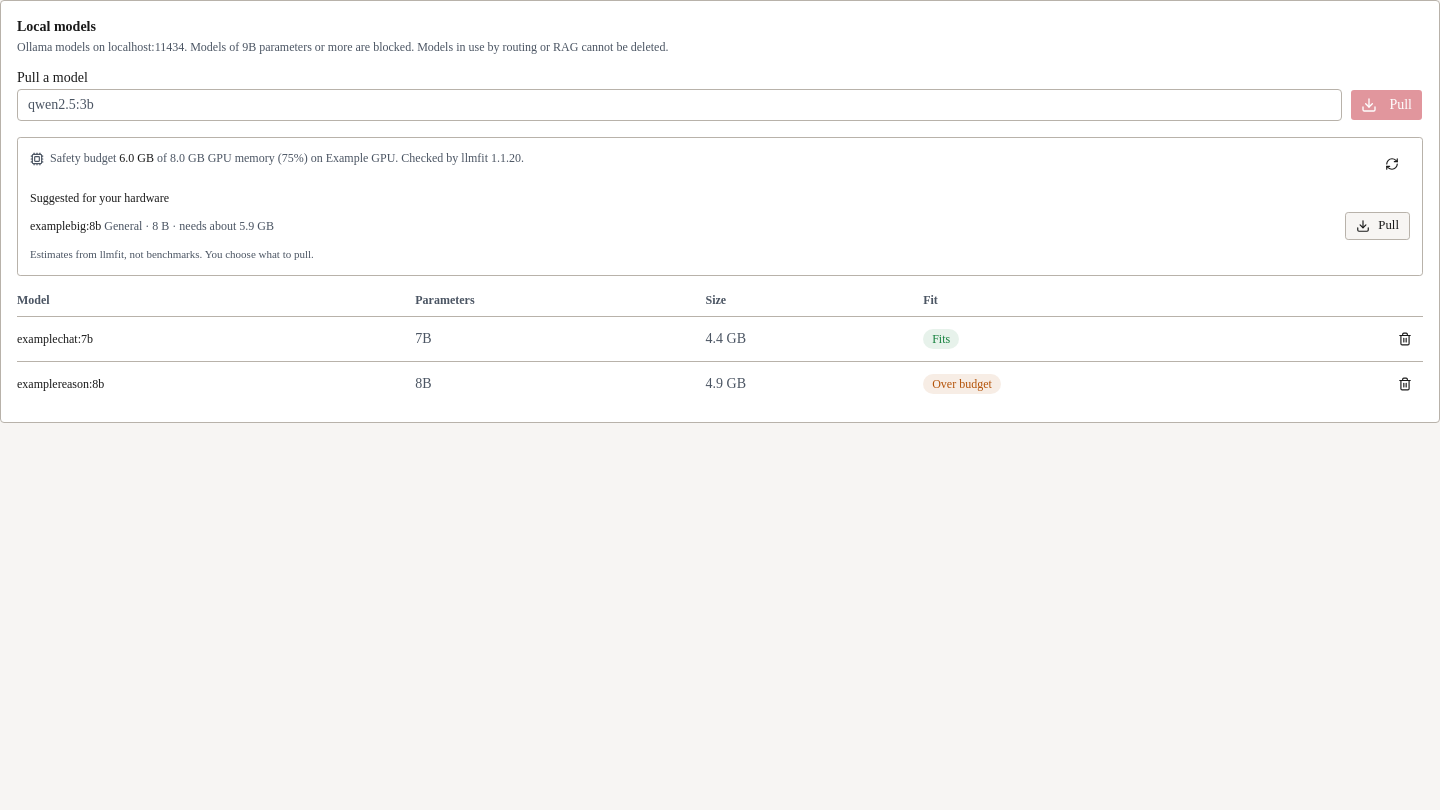
Scenario: OllamaModelsCard hardware fit › does not pull when the user cancels
The image size is (1440, 810).
What coordinates should you click on to do the following:
click the button with aria-label "Pull examplebig:8b"
I would click on:
 (1378, 226)
Its box is [1345,212,1410,240].
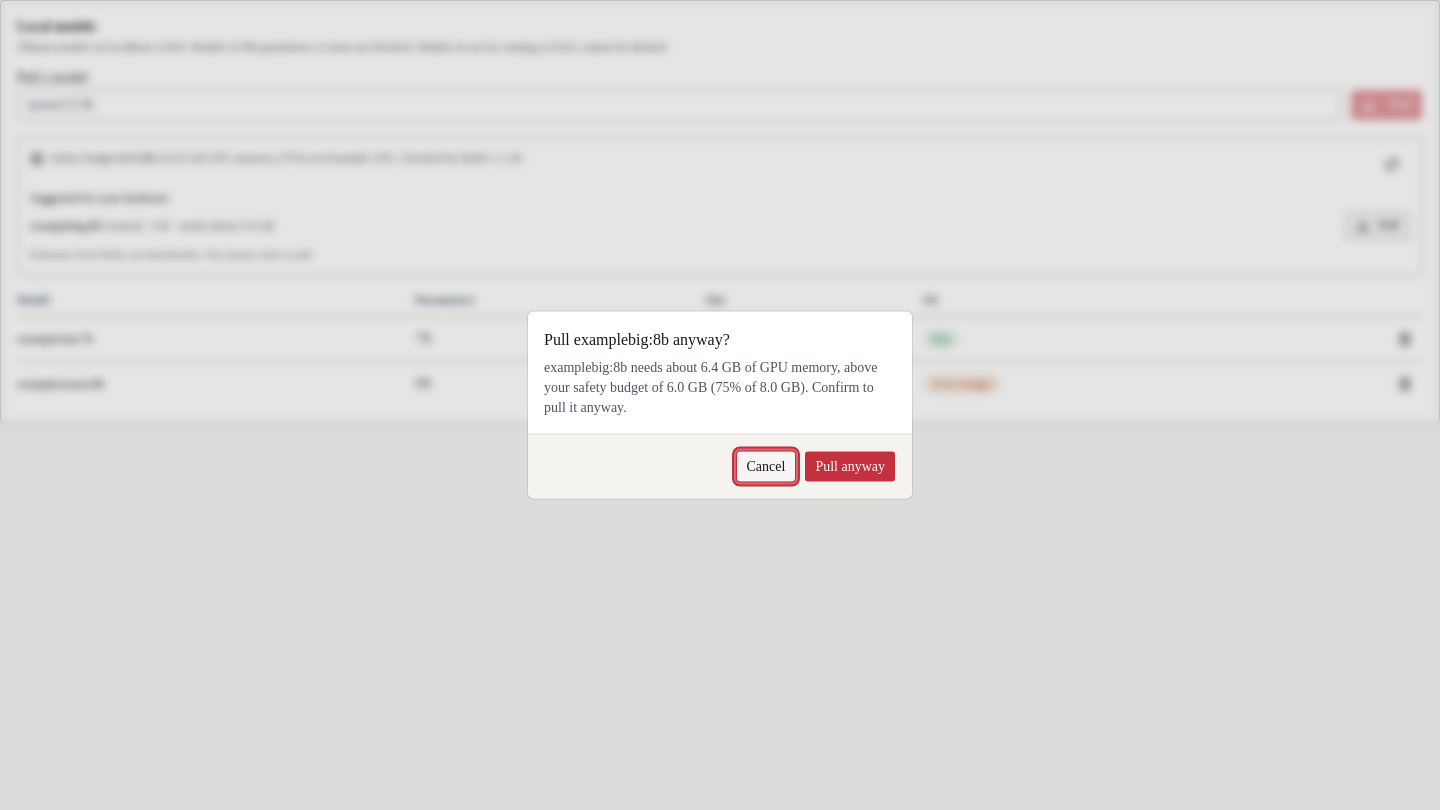
What coordinates should you click on to do the following:
click the button "Cancel"
I would click on:
 (766, 466)
Its box is [736,450,796,482].
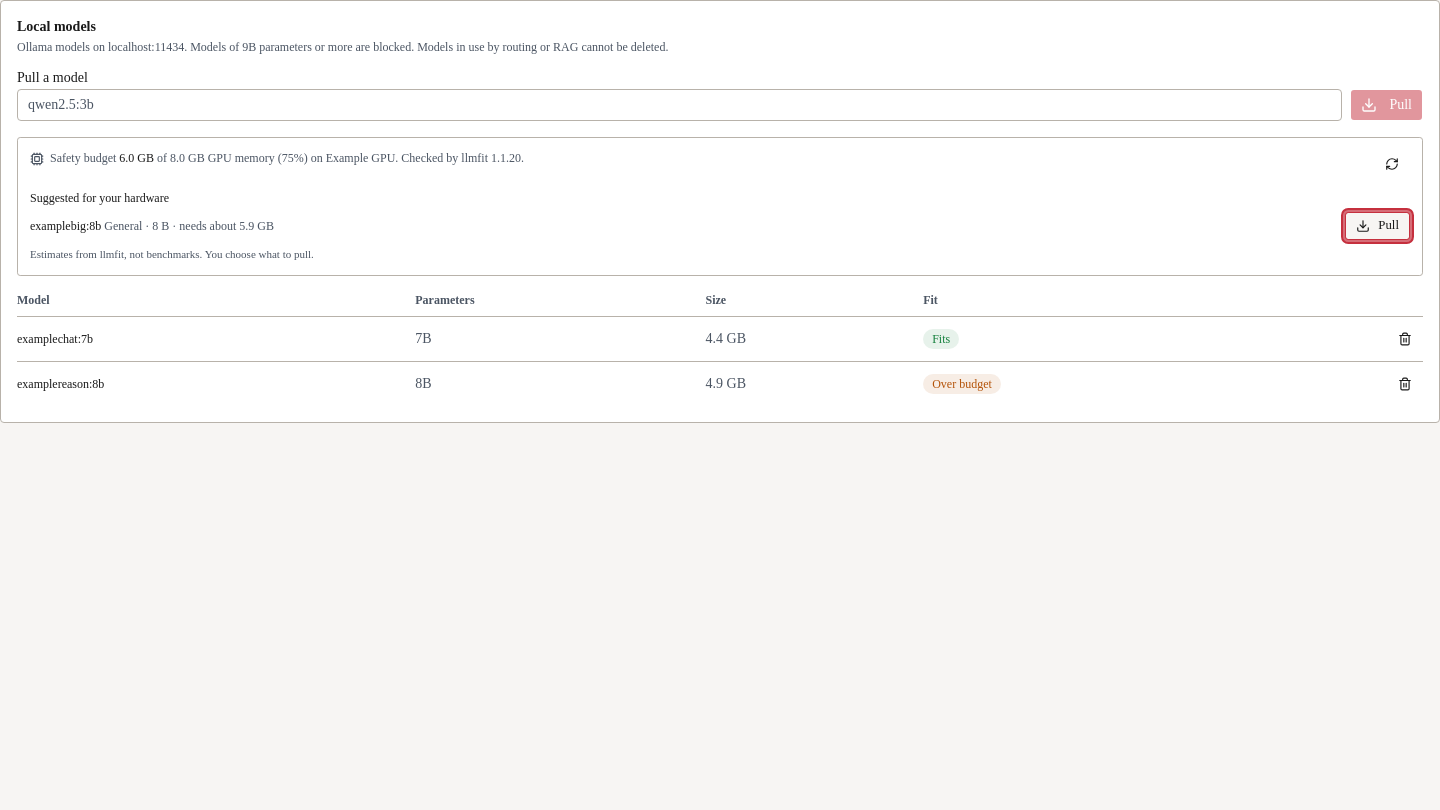
Now the dialog is gone
